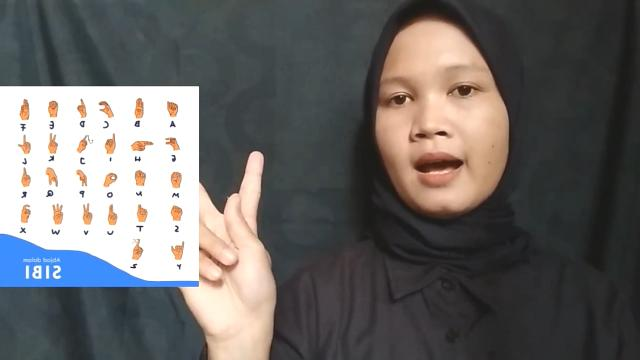K: (167, 144, 276, 360)
